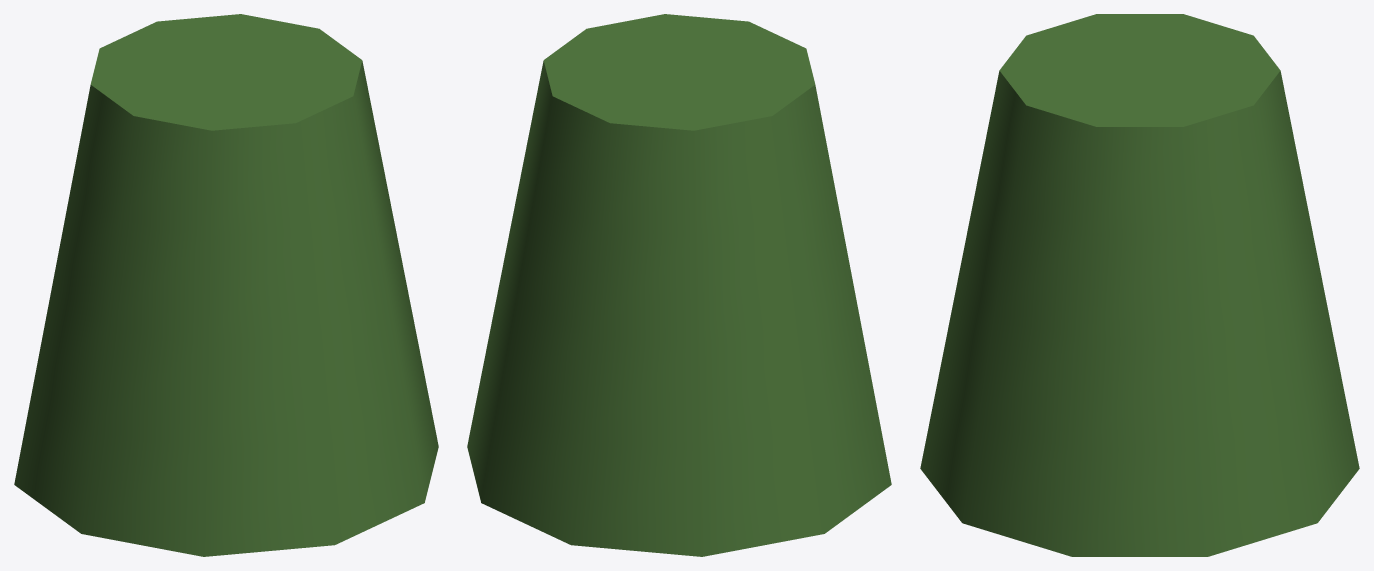
The model's file is stem-herb.glb.
3 renders of one model, left to right at view 1: azimuth 30°, elevation 25°; view 2: azimuth 150°, elevation 25°; view 3: azimuth 270°, elevation 25°, orthographic.
Visible parts, largest first — view 1: tint-surface; view 2: tint-surface; view 3: tint-surface.
Boxes of the visible parts, left/top/right/bottom form: tint-surface: left=14, top=14, right=438, bottom=556; tint-surface: left=467, top=14, right=891, bottom=556; tint-surface: left=920, top=14, right=1359, bottom=556.
Bounding box in the file's own units: 0.9511 × 1 × 1.
